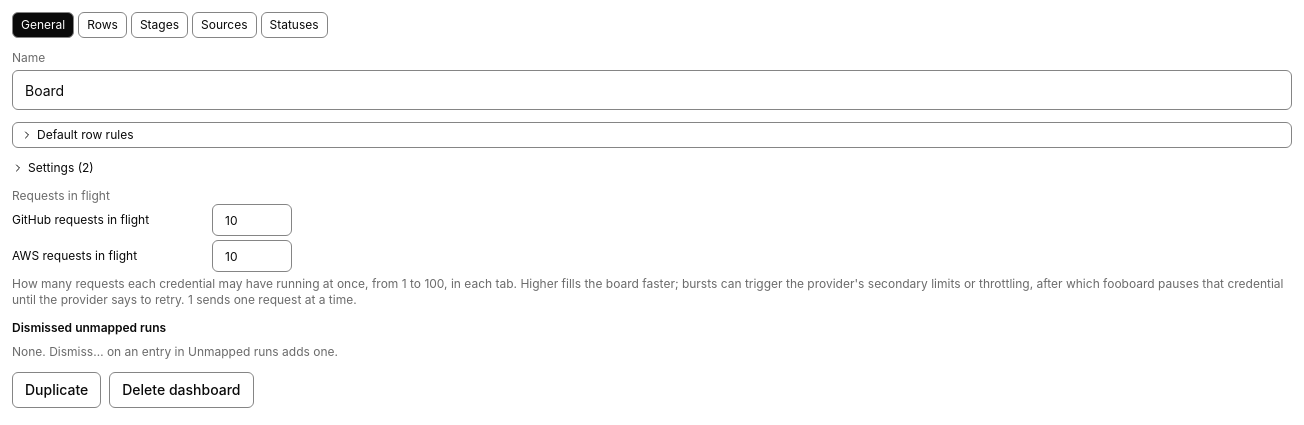
editor sections › reports a repo list that fails to load
Press the mouse on the tab "Rows" at coordinates (103, 25), box 78,12 -> 127,38
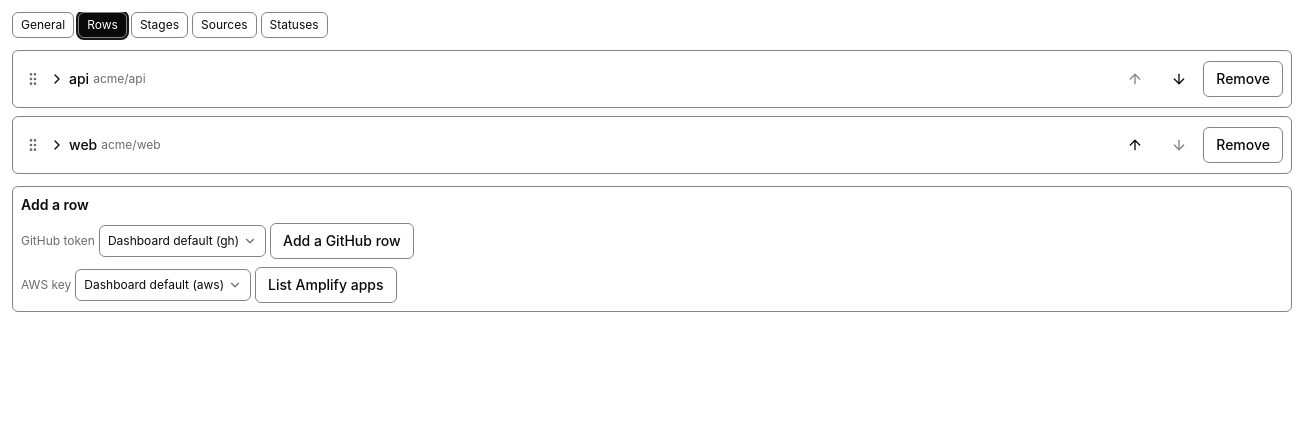
Click the button "Add a GitHub row".
click(342, 241)  # box 270,223 -> 414,259
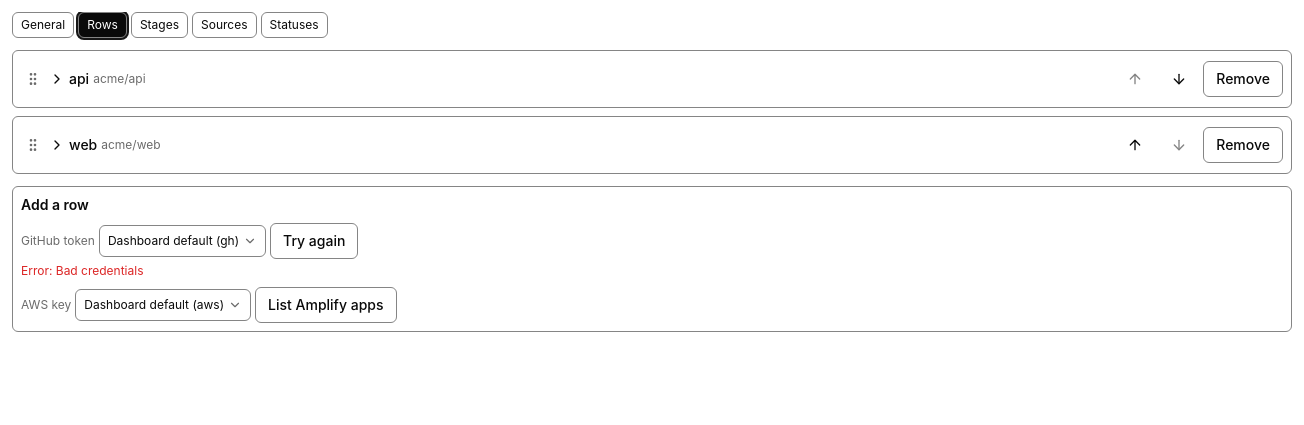
Expected: the message shows "Bad credentials", 21,263 -> 144,278
